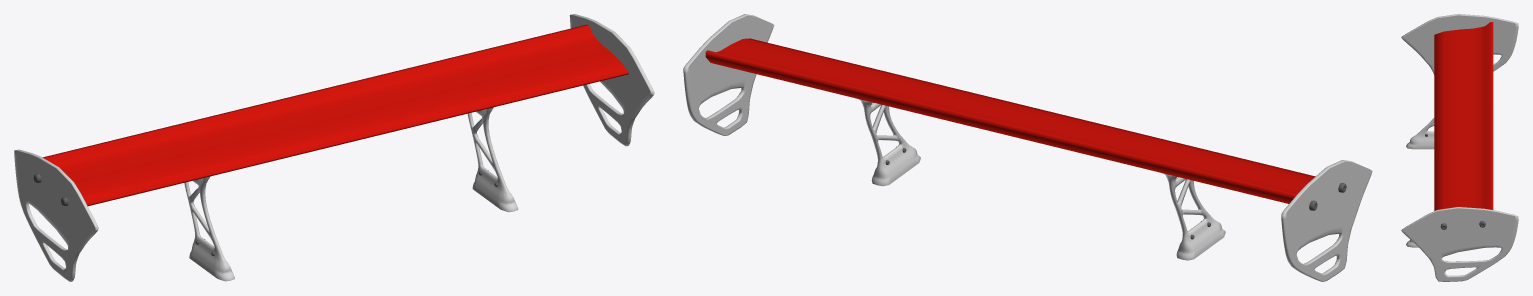
Rendered from Spoiler1.fbx.
The picture shows the model from 3 angles, left to right: view 1: azimuth 30°, elevation 25°; view 2: azimuth 150°, elevation 25°; view 3: azimuth 270°, elevation 25°; orthographic projection. The views are drawn at different scales.
Parts seen in each view (by area): view 1: Spoiler_LOD0; view 2: Spoiler_LOD0; view 3: Spoiler_LOD0.
Part boxes in pixels (x1,y1,x2,y2): Spoiler_LOD0: (14, 14, 654, 281); Spoiler_LOD0: (683, 14, 1372, 281); Spoiler_LOD0: (1401, 14, 1518, 281).
Size of what is drawn, in the model's own units: 282 by 56.83 by 71.13.
